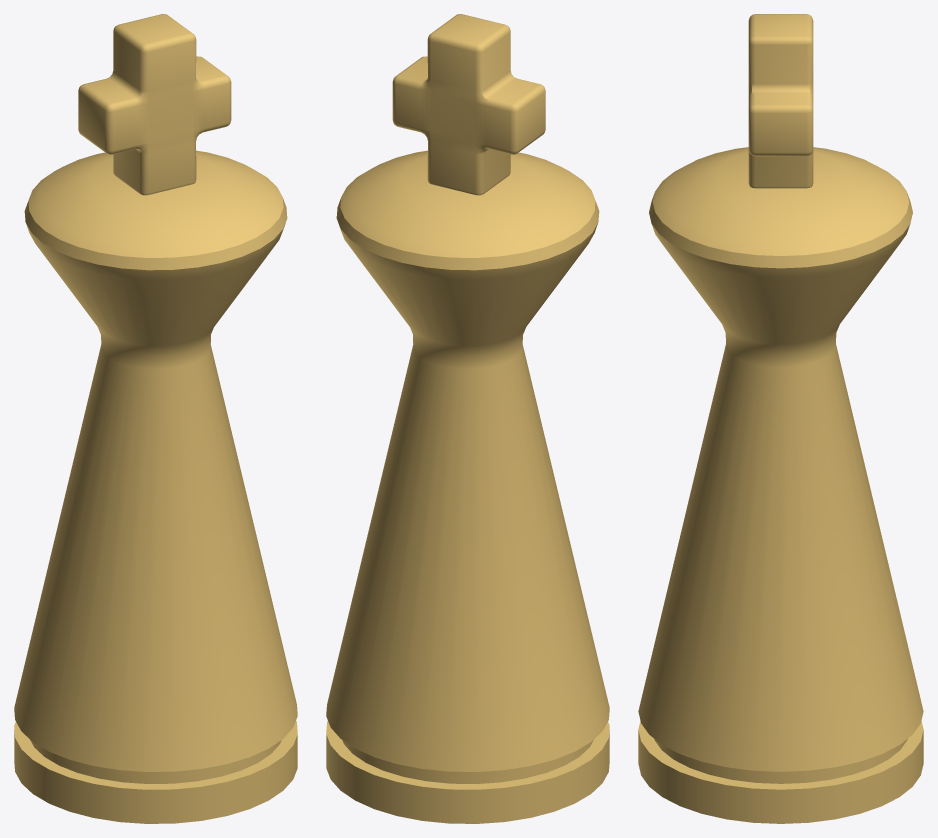
Rendered from King_w.fbx.
The picture shows the model from 3 angles, left to right: view 1: azimuth 30°, elevation 25°; view 2: azimuth 150°, elevation 25°; view 3: azimuth 270°, elevation 25°; orthographic projection.
Parts seen in each view (by area): view 1: King_w; view 2: King_w; view 3: King_w.
Part boxes in pixels (bbox=[...]): King_w: bbox=[14, 14, 297, 823]; King_w: bbox=[326, 14, 609, 823]; King_w: bbox=[638, 14, 923, 823].
Size of the model in its own units: 150 by 428 by 150.
